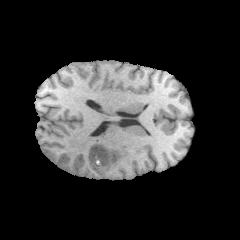glioma: (54, 135, 131, 177)
